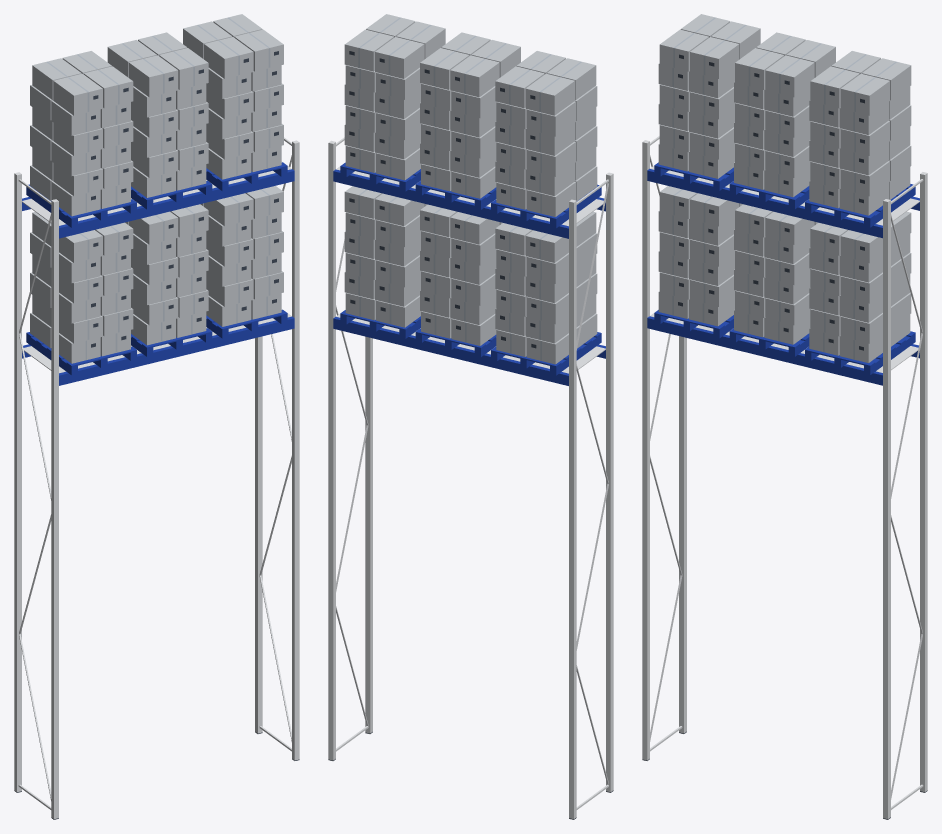
The model's file is SM_MPR_CADRack_F7_W144_Passage_LOD1.fbx.
3 views of the same model, side by side, from view 1: azimuth 30°, elevation 25°; view 2: azimuth 150°, elevation 25°; view 3: azimuth 330°, elevation 25° (orthographic).
Visible parts, largest first — view 1: SM_MPR_CADRack_F7_W144_Passage_LOD1; view 2: SM_MPR_CADRack_F7_W144_Passage_LOD1; view 3: SM_MPR_CADRack_F7_W144_Passage_LOD1.
Part boxes in pixels (left/top/right/bottom): SM_MPR_CADRack_F7_W144_Passage_LOD1: left=14, top=14, right=299, bottom=819; SM_MPR_CADRack_F7_W144_Passage_LOD1: left=328, top=14, right=613, bottom=819; SM_MPR_CADRack_F7_W144_Passage_LOD1: left=642, top=14, right=927, bottom=819.
Bounding box in the file's own units: 381 × 122 × 1068.
